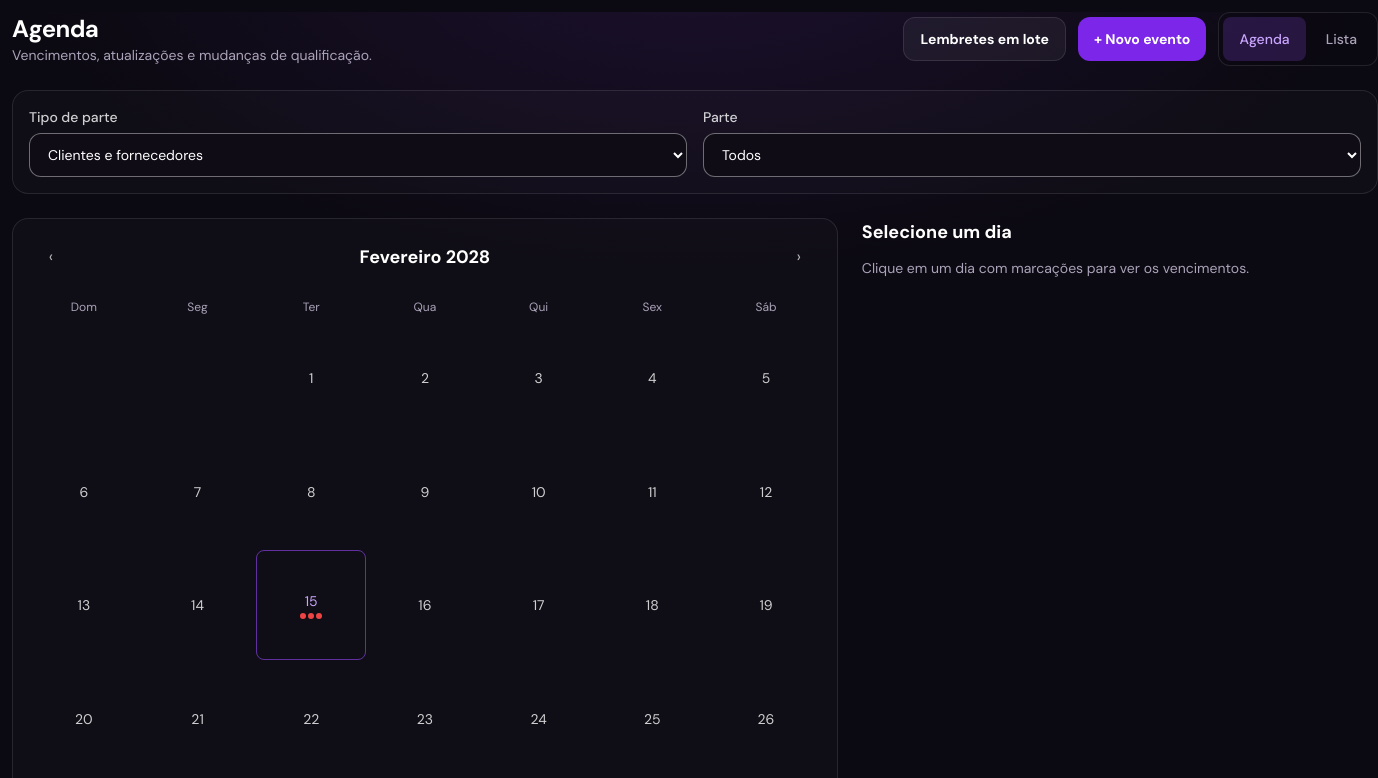
Test: agenda: filtros e criação/edição (Issue #10) › filtra por uma parte específica de forma cumulativa com o tipo
Click the button "Lista": (1341, 39) [1310,17,1373,61]
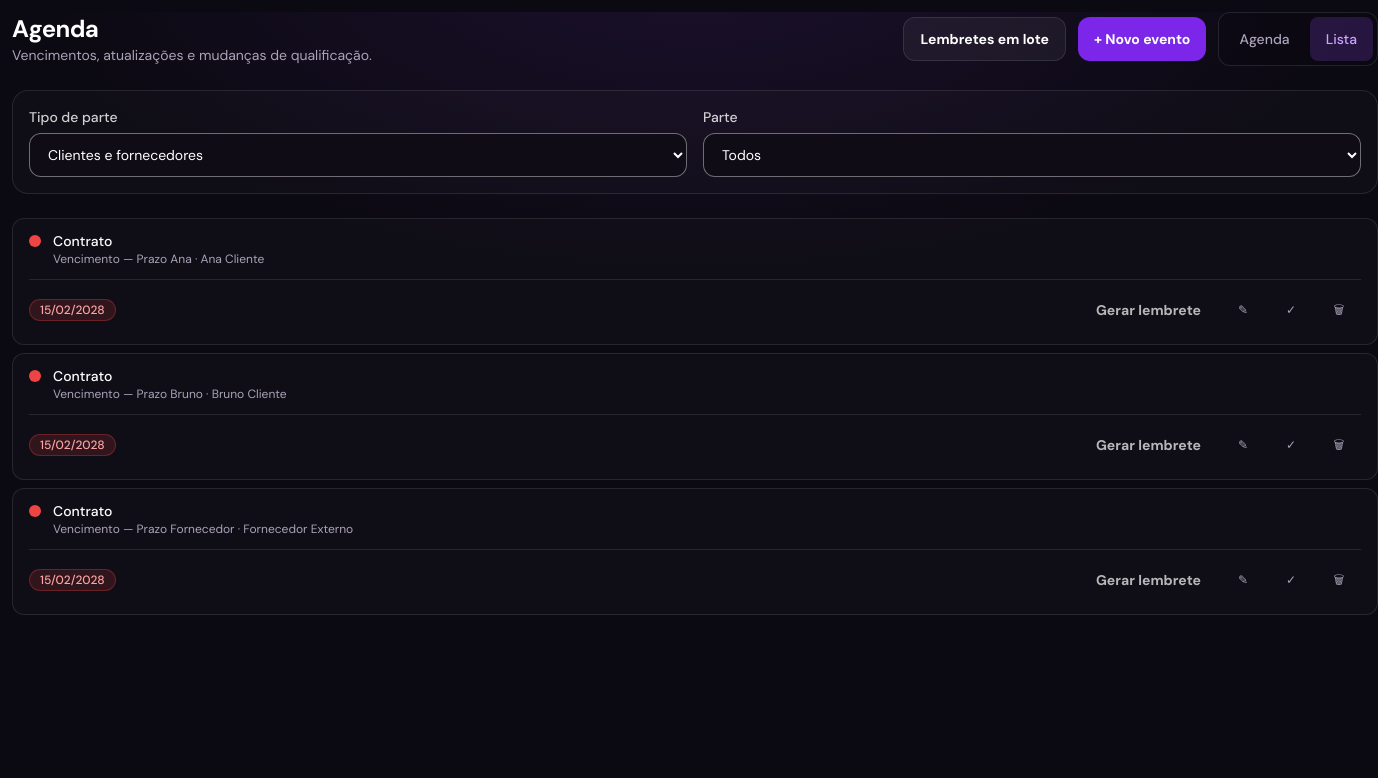
Select "Bruno Cliente" in the dropdown labelled "Parte": (1032, 155) [703,133,1361,177]
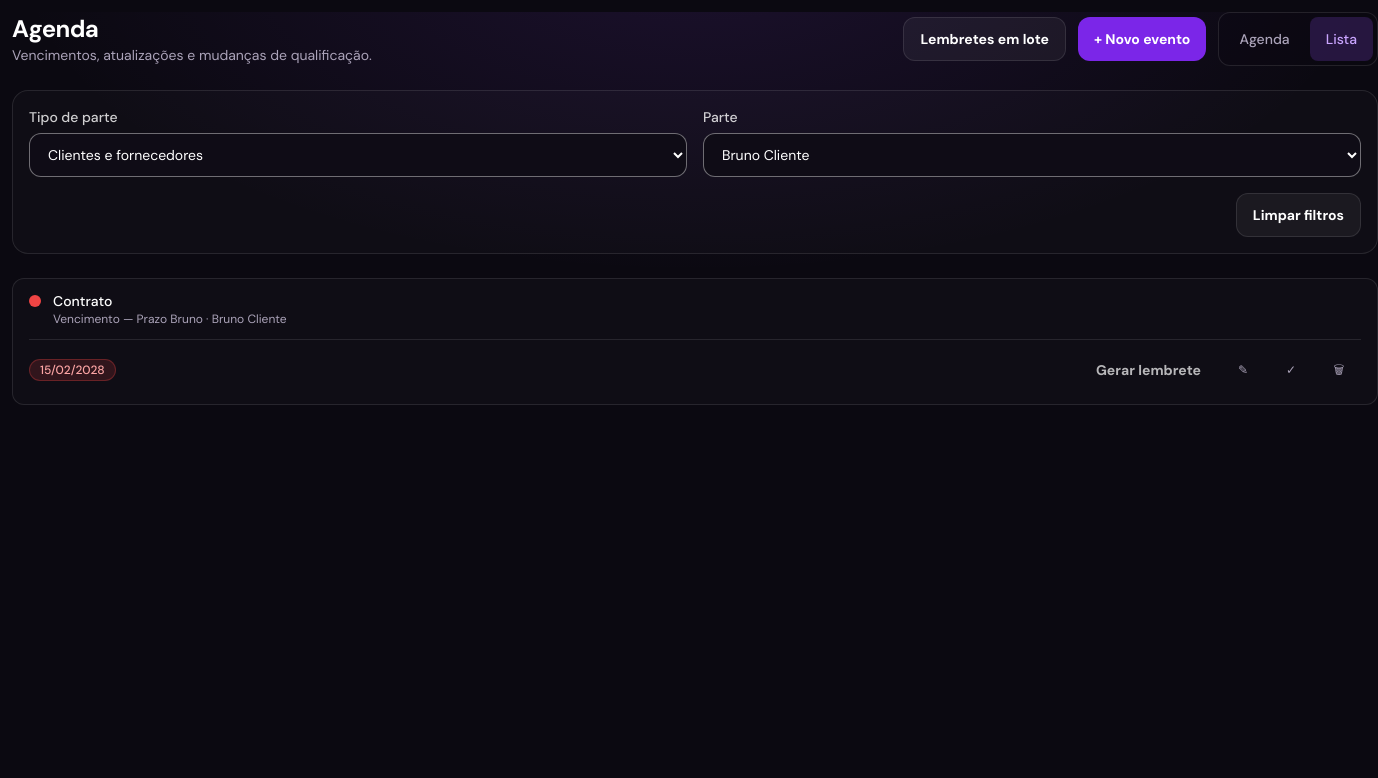
Result: the text "Vencimento — Prazo Bruno · Bruno Cliente" is shown at [53,311,287,327]
Result: the text "Prazo Ana" is gone
Result: the text "Prazo Fornecedor" is gone
